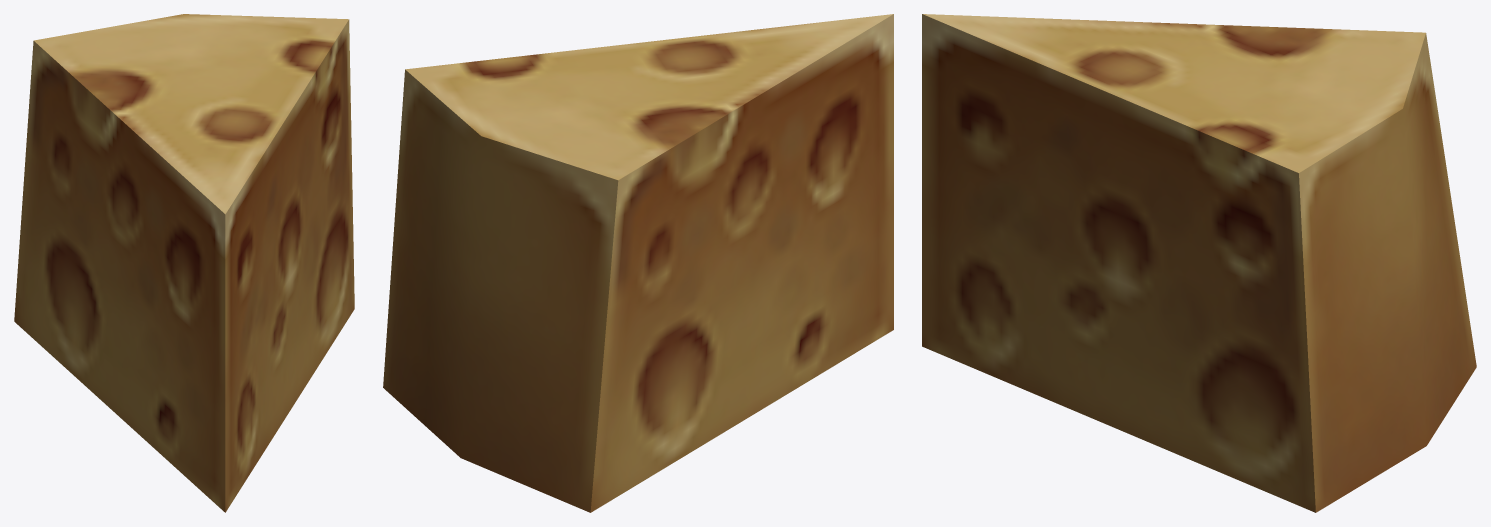
File: cheese.fbx
The picture shows the model from 3 angles, left to right: view 1: azimuth 30°, elevation 25°; view 2: azimuth 150°, elevation 25°; view 3: azimuth 270°, elevation 25°; orthographic projection. The views are drawn at different scales.
Parts seen in each view (by area): view 1: cheese; view 2: cheese; view 3: cheese.
Boxes of the visible parts, x1=… form: cheese: x1=14, y1=14, x2=354, y2=512; cheese: x1=383, y1=14, x2=893, y2=512; cheese: x1=922, y1=14, x2=1476, y2=512.
Size of the model in its own units: 17.03 by 15.88 by 24.
